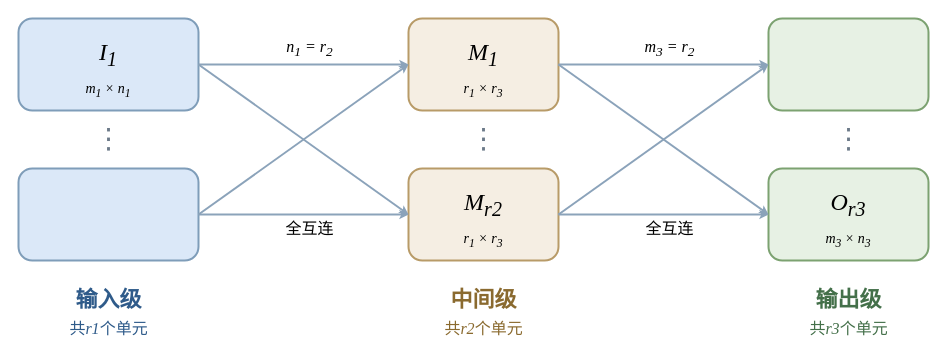
This 946x357 diagram has some shape labels left out. Here are the shapes that lost their labels. From the top down, the centre of each, then its label:
At pixel 848 64: "O 1 m 3 × n 3".
At pixel 108 214: "I r 1 m 1 × n 1".
